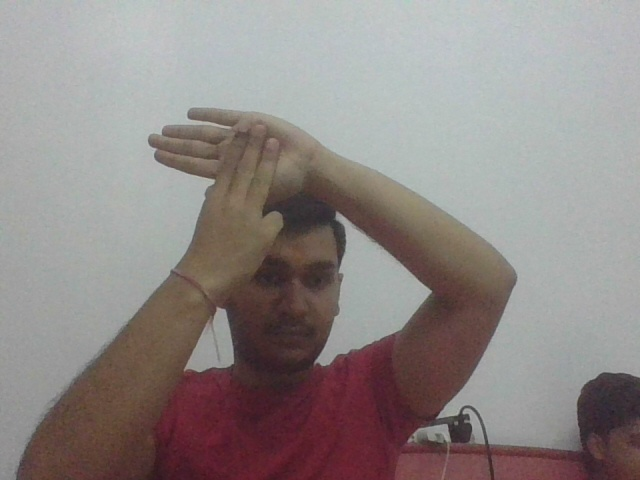M: (148, 101, 310, 264)
